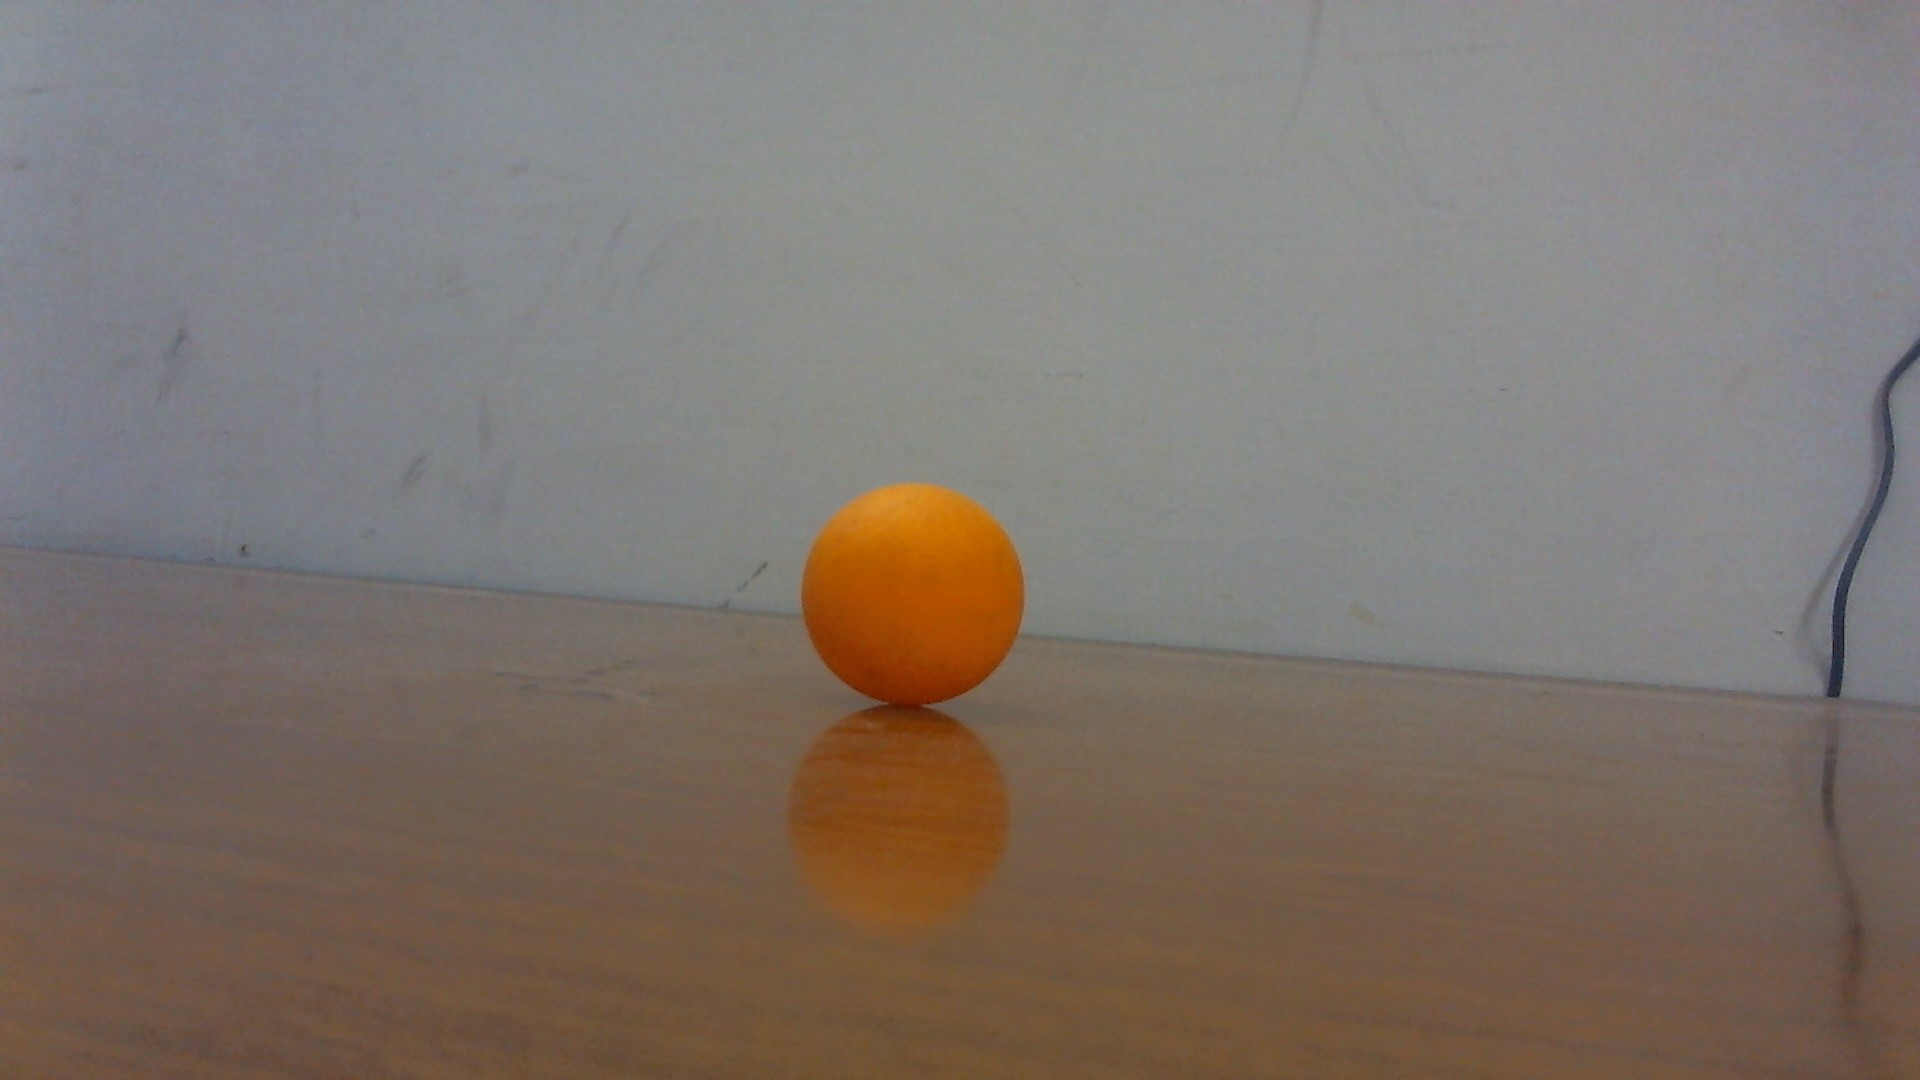ball: (804, 483, 1029, 709)
